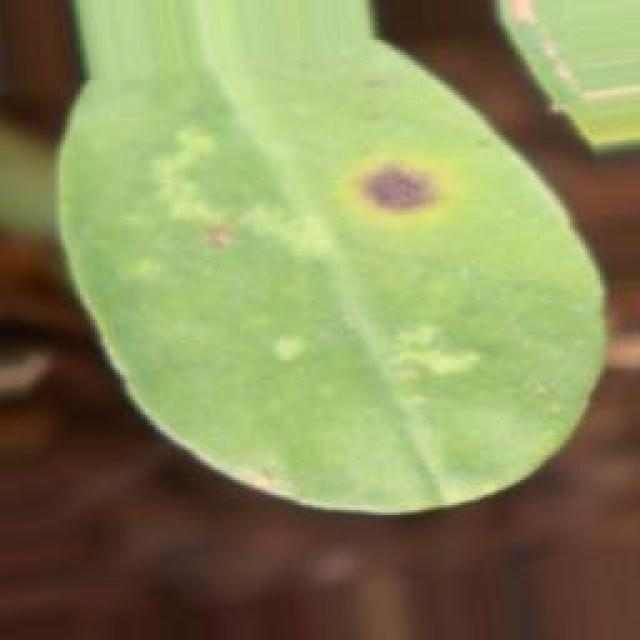Sigatoka: (355, 142, 461, 246), (202, 191, 260, 266)
